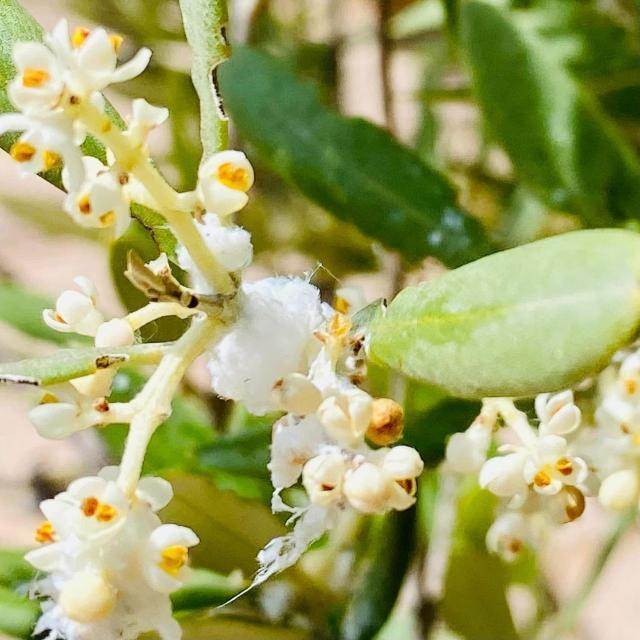Psyllid: (214, 394, 424, 610), (176, 214, 332, 416), (23, 466, 200, 640)
